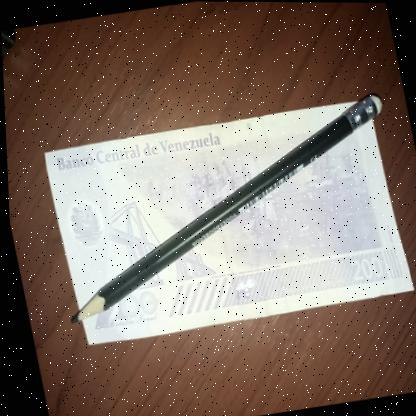two_hundred-back-vef: (38, 94, 414, 349)
